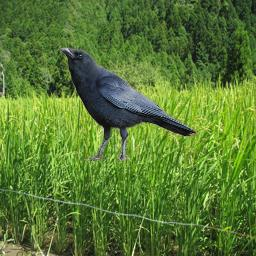Crow: (58, 47, 196, 163)
